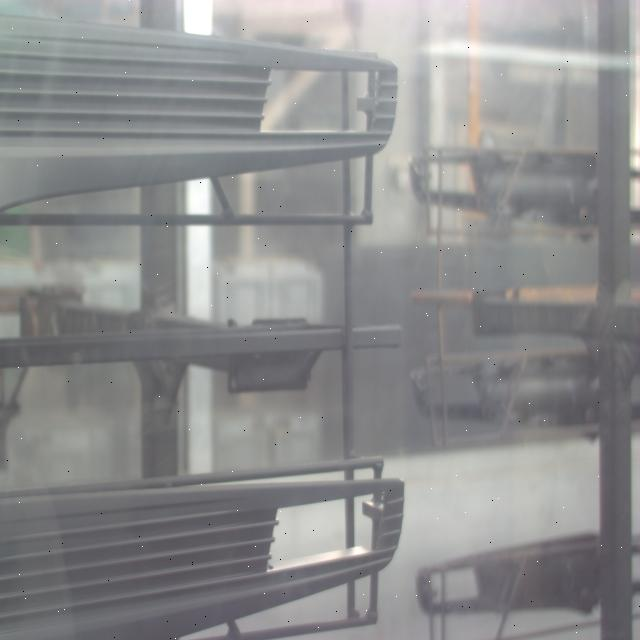Primered: (0, 22, 400, 209), (0, 461, 406, 640)
